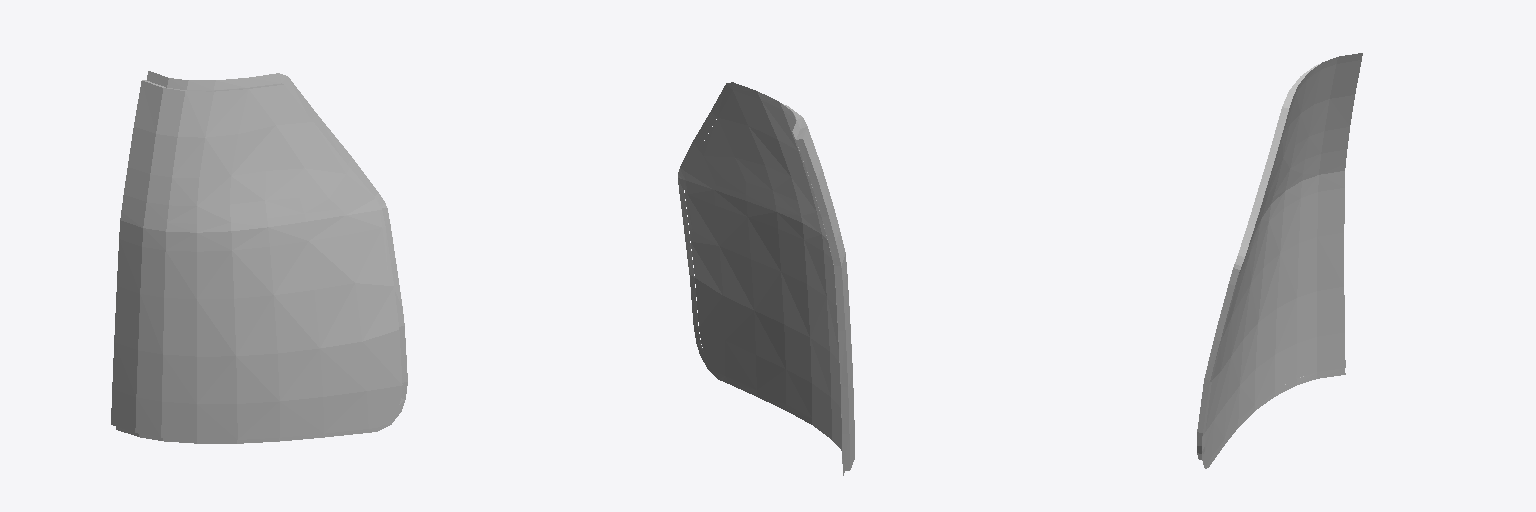
The picture shows the model from 3 angles: view 1: azimuth 30°, elevation 25°; view 2: azimuth 150°, elevation 25°; view 3: azimuth 270°, elevation 25°; orthographic projection.
Visible parts, largest first — view 1: U721_541C_R_1_DTaSI_U721_541C_R, U721_541C_R_U721_541C_R_3_D; view 2: U721_541C_R_U721_541C_R_2_N, U721_541C_R_1_DTaSI_U721_541C_R, U721_541C_R_U721_541C_R_3_D; view 3: U721_541C_R_U721_541C_R_2_N, U721_541C_R_1_DTaSI_U721_541C_R, U721_541C_R_U721_541C_R_3_D.
Part boxes in pixels (x1,y1,x2,y2): U721_541C_R_1_DTaSI_U721_541C_R: (111, 80, 402, 439); U721_541C_R_U721_541C_R_3_D: (116, 71, 407, 443); U721_541C_R_U721_541C_R_2_N: (684, 90, 842, 463); U721_541C_R_1_DTaSI_U721_541C_R: (783, 104, 854, 470); U721_541C_R_U721_541C_R_3_D: (678, 82, 844, 475); U721_541C_R_U721_541C_R_2_N: (1204, 60, 1361, 460); U721_541C_R_1_DTaSI_U721_541C_R: (1197, 64, 1319, 459); U721_541C_R_U721_541C_R_3_D: (1202, 53, 1362, 468).
Size of the model in its own units: 26.98 by 38.86 by 17.11.